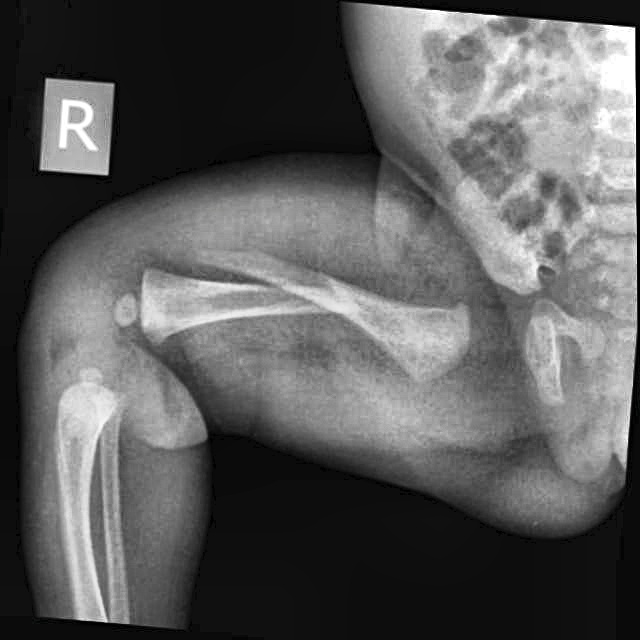Spiral: (165, 234, 371, 333)
